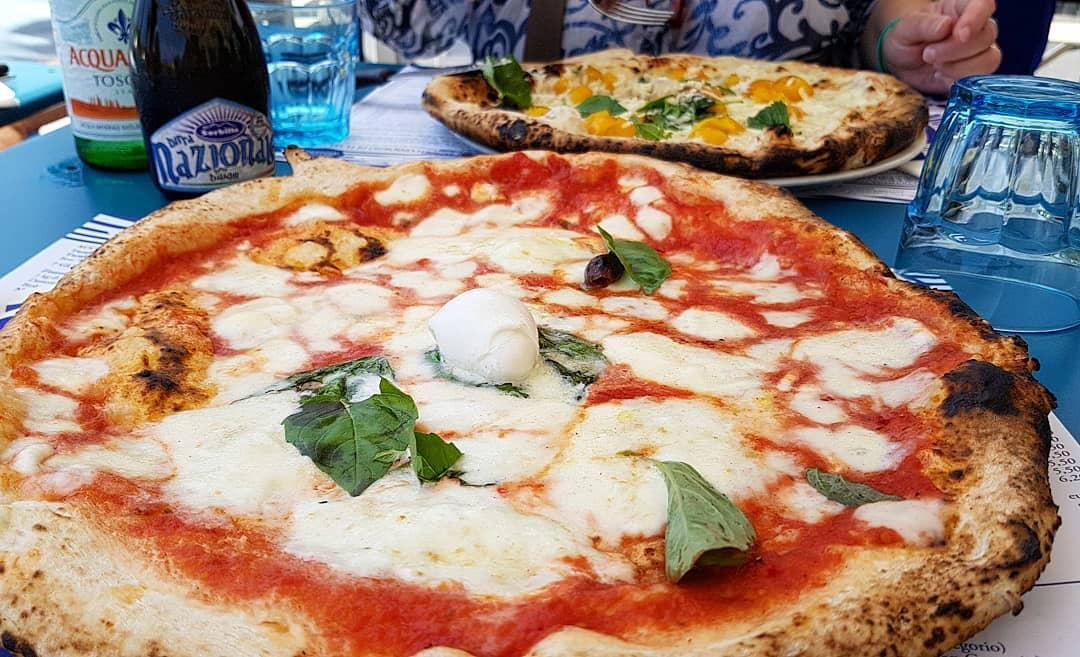Basil: (281, 361, 452, 495), (643, 463, 761, 577), (578, 241, 677, 302), (533, 323, 607, 382), (643, 86, 700, 141), (478, 61, 534, 107), (578, 93, 624, 122), (753, 106, 794, 136)
Cheese: (466, 401, 672, 514), (328, 491, 577, 580), (623, 333, 907, 405), (151, 408, 307, 515), (393, 218, 589, 282), (428, 276, 540, 385), (236, 283, 365, 355)
Pizza: (0, 151, 1052, 655), (433, 51, 936, 162)
